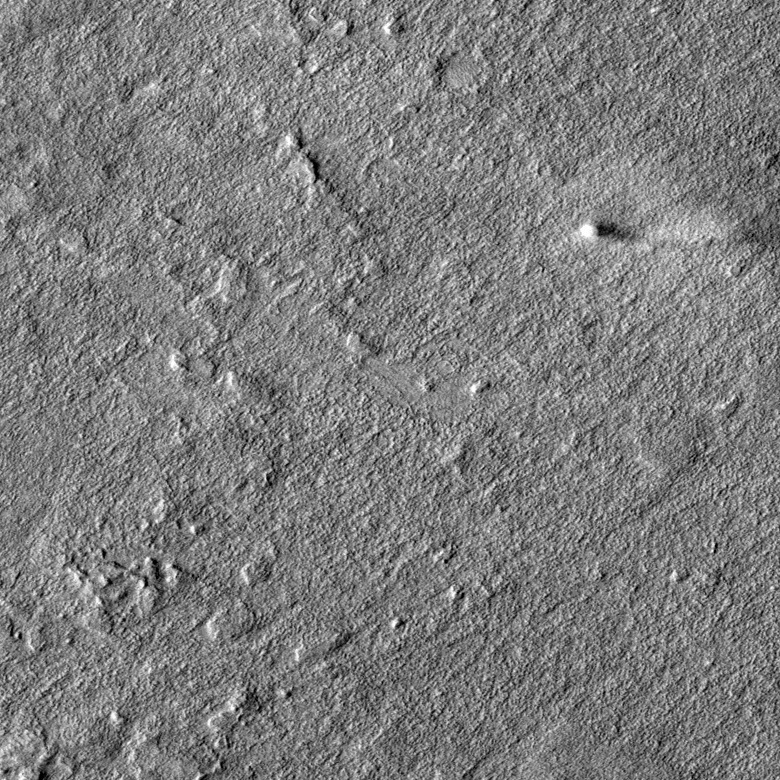dust_devil: (579, 222, 644, 245)
